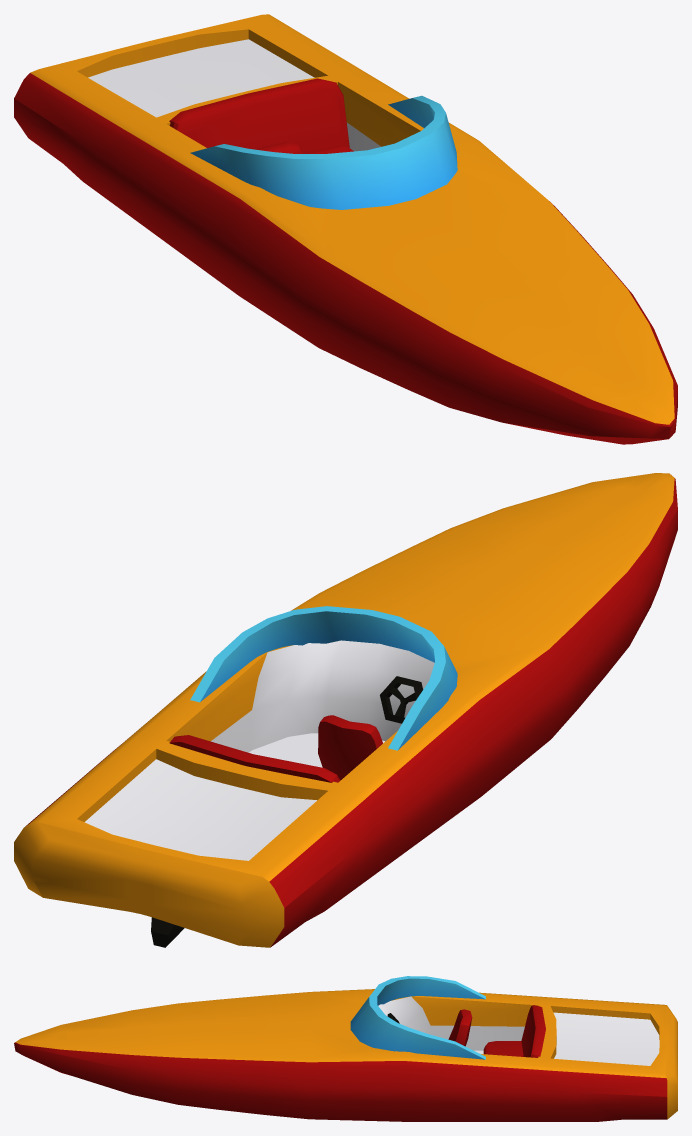
Rendered from Boat3.fbx.
The picture shows the model from 3 angles, top to bottom: view 1: azimuth 30°, elevation 25°; view 2: azimuth 150°, elevation 25°; view 3: azimuth 270°, elevation 25°; orthographic projection. The views are drawn at different scales.
Visible parts, largest first — view 1: Hull_Boats_MAT_0.006; view 2: Hull_Boats_MAT_0.006; view 3: Hull_Boats_MAT_0.006.
Boxes of the visible parts, x1,y1,x2,y2 form: Hull_Boats_MAT_0.006: (14,14,677,444); Hull_Boats_MAT_0.006: (14,473,677,947); Hull_Boats_MAT_0.006: (14,976,677,1121).
Size of the model in its own units: 0.6497 by 0.3787 by 2.18.
